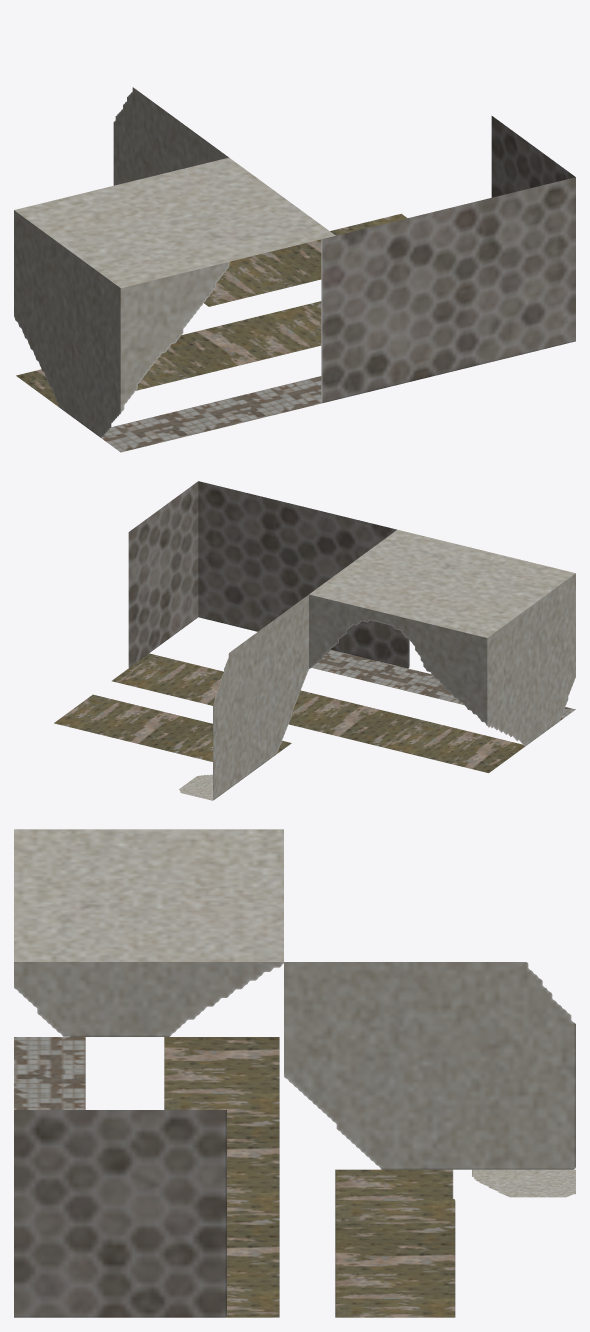
File: Bedroom Geometry.fbx
3 views of the same model, one above another, from view 1: azimuth 30°, elevation 25°; view 2: azimuth 150°, elevation 25°; view 3: azimuth 270°, elevation 25° (orthographic). The views are drawn at different scales.
Parts seen in each view (by area): view 1: Cube; view 2: Cube; view 3: Cube.
Part boxes in pixels (left/top/right/bottom): Cube: left=14, top=87, right=575, bottom=452; Cube: left=54, top=481, right=575, bottom=800; Cube: left=14, top=829, right=575, bottom=1317.
Bounding box in the file's own units: 5230 × 1803 × 4424.
